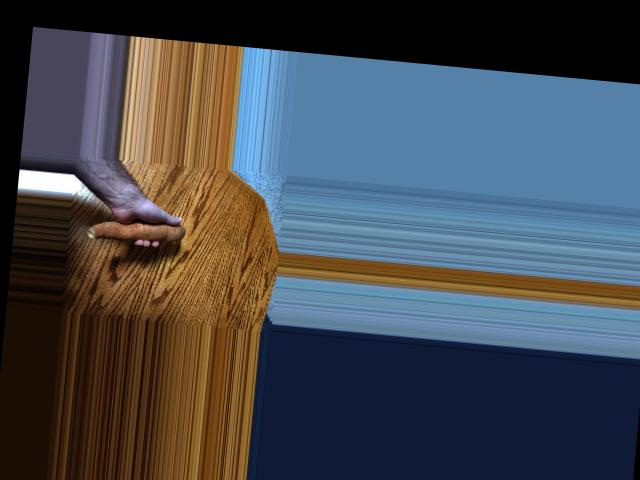sweet_potato: (85, 208, 183, 245)
